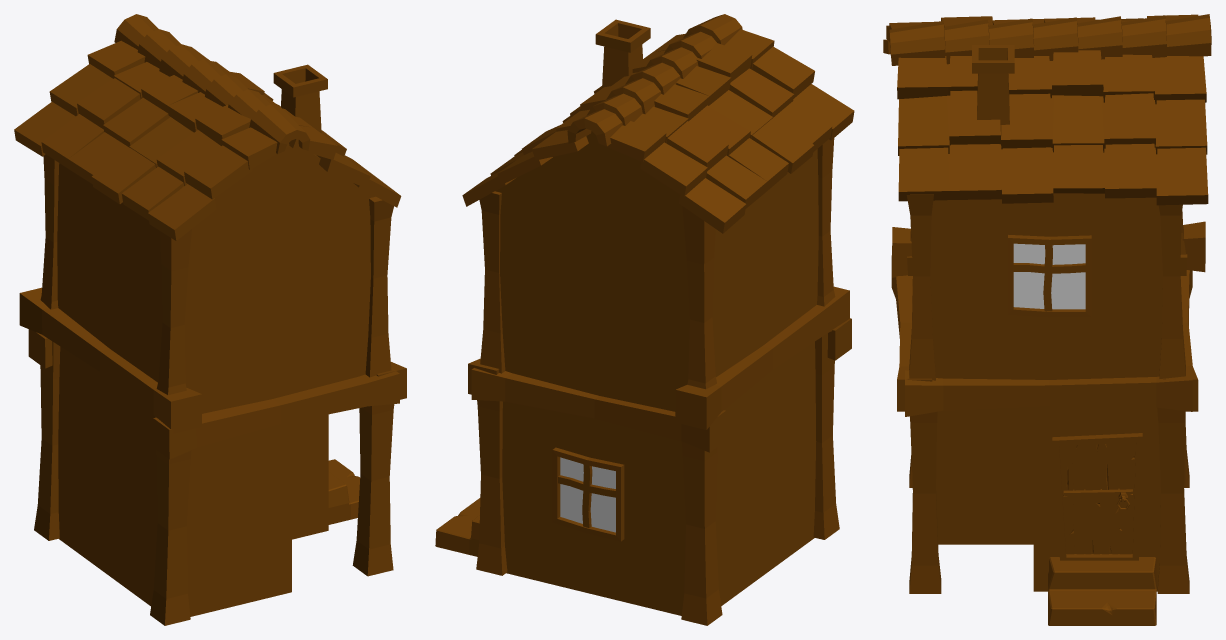
Rendered from дом4 .fbx.
3 views of the same model, side by side, from view 1: azimuth 30°, elevation 25°; view 2: azimuth 150°, elevation 25°; view 3: azimuth 270°, elevation 25° (orthographic). The views are drawn at different scales.
Visible parts, largest first — view 1: Куб.012; view 2: Куб.012; view 3: Куб.012.
Part boxes in pixels (box(x1,y1,x2,y2)): Куб.012: box(14, 14, 406, 625); Куб.012: box(435, 14, 854, 625); Куб.012: box(883, 14, 1211, 625).
Size of the model in its own units: 160 by 245 by 141.
